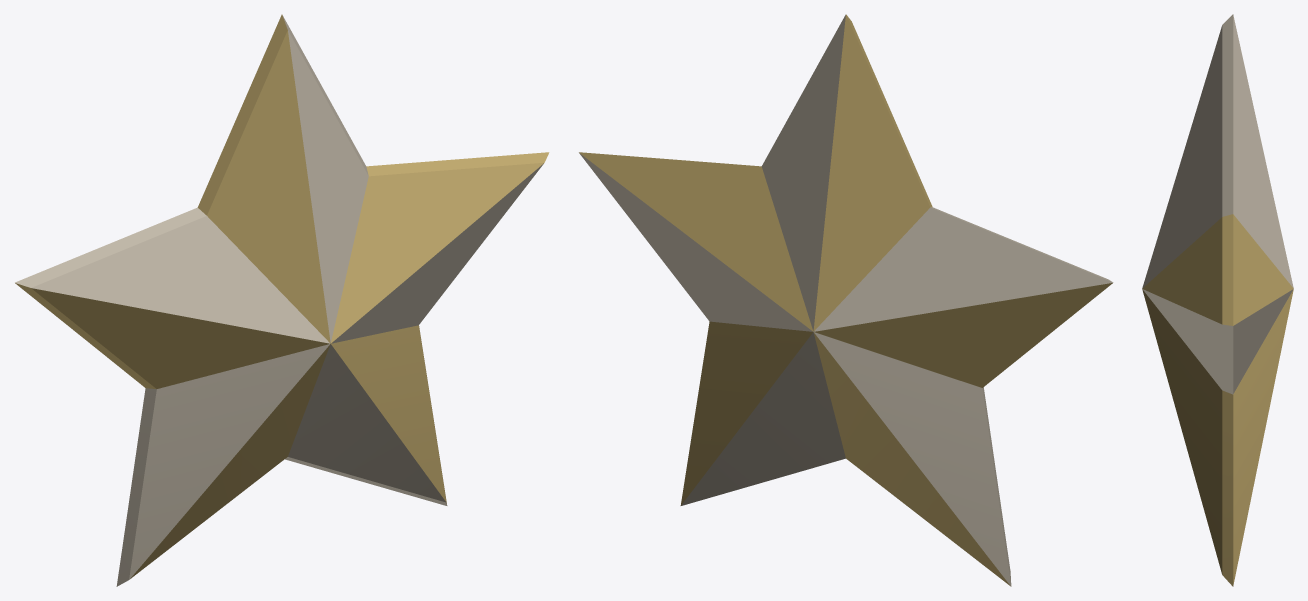
Rendered from star.glb.
3 renders of one model, left to right at view 1: azimuth 30°, elevation 25°; view 2: azimuth 150°, elevation 25°; view 3: azimuth 270°, elevation 25°, orthographic. The views are drawn at different scales.
Parts seen in each view (by area): view 1: root_mesh; view 2: root_mesh; view 3: root_mesh.
Part boxes in pixels (x1=…): root_mesh: x1=15, y1=14, x2=549, y2=586; root_mesh: x1=579, y1=14, x2=1113, y2=586; root_mesh: x1=1142, y1=14, x2=1293, y2=586.
Bounding box in the file's own units: 1.2 × 1.14 × 0.3154.
